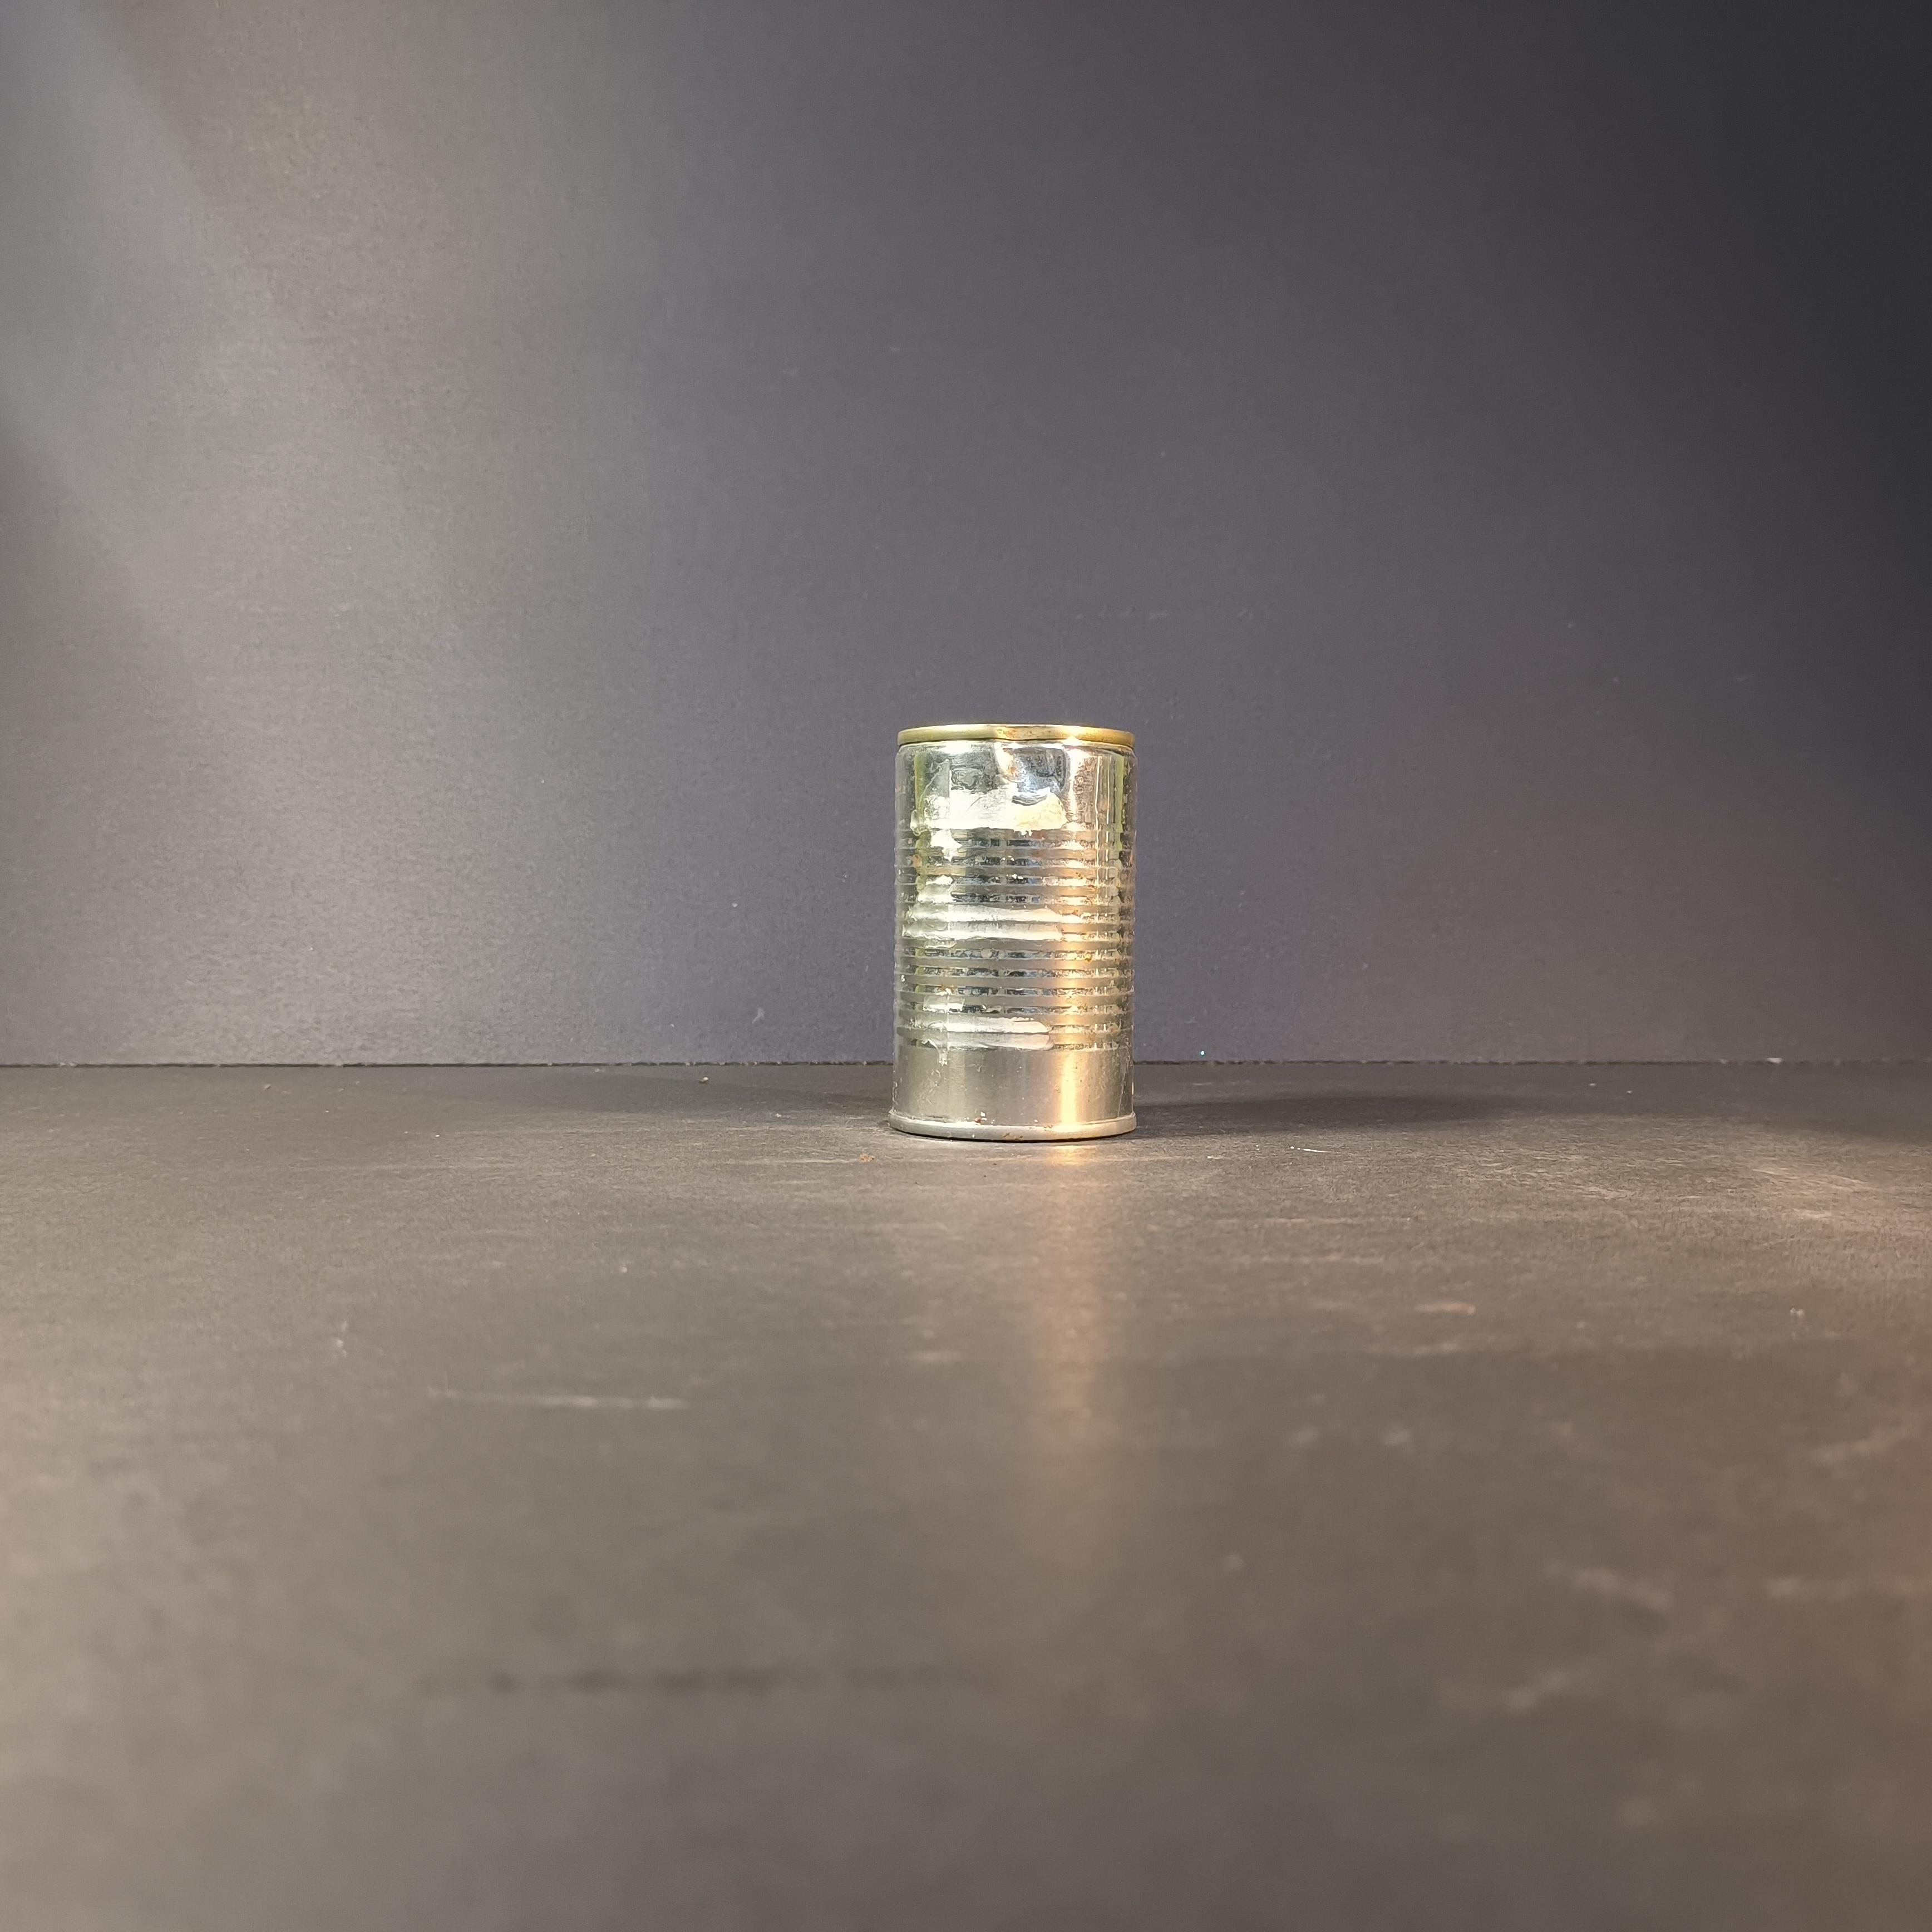Dented: (879, 699, 1152, 1177)
